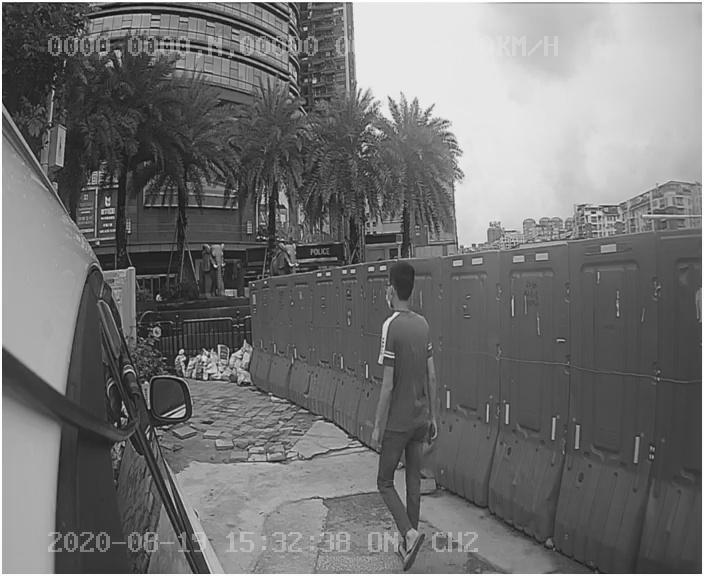person: (358, 263, 446, 525)
